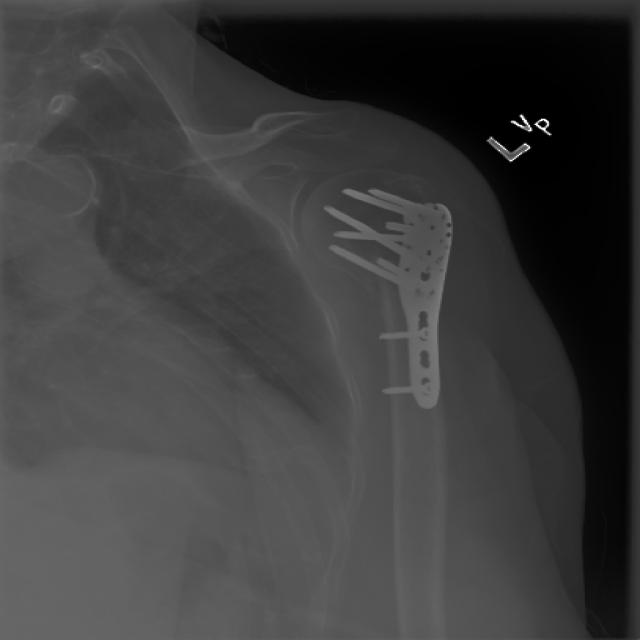shoulder fracture: (329, 244, 415, 334)
